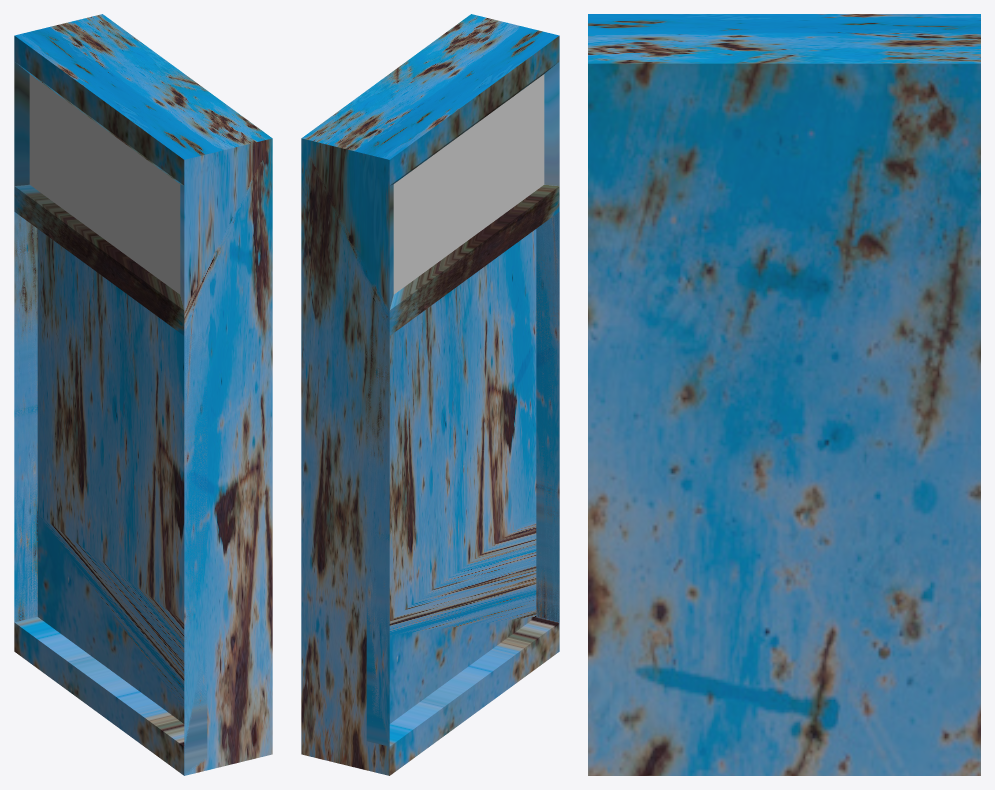
Rendered from numPad.glb.
3 views of the same model, side by side, from view 1: azimuth 30°, elevation 25°; view 2: azimuth 150°, elevation 25°; view 3: azimuth 270°, elevation 25° (orthographic). The views are drawn at different scales.
Visible parts, largest first — view 1: Cubo.036; view 2: Cubo.036; view 3: Cubo.036.
Part boxes in pixels (x1,y1,x2,y2): Cubo.036: [14, 14, 272, 775]; Cubo.036: [301, 14, 559, 775]; Cubo.036: [588, 14, 980, 775].
Size of the model in its own units: 0.12 by 0.8003 by 0.4.
Materials: 2 (1 with a texture image).
